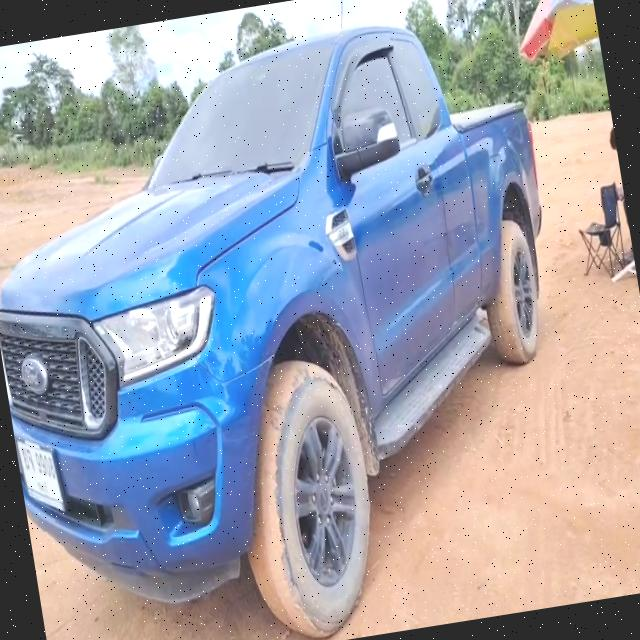Digit: (33, 447, 56, 481)
Licenseplate: (15, 438, 69, 515)
Provincename: (34, 476, 50, 496)
Thaichar: (19, 443, 35, 476)
